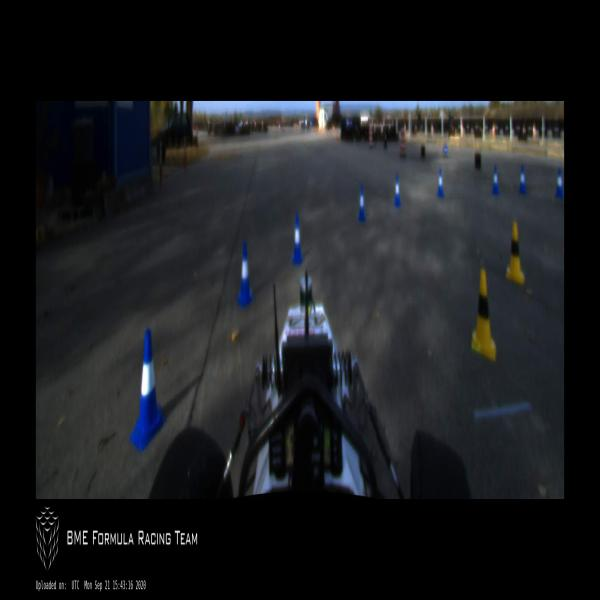blue_cone: (130, 327, 166, 450), (236, 244, 252, 304), (290, 215, 304, 264), (358, 185, 366, 222), (393, 175, 402, 206), (491, 166, 500, 195), (436, 167, 444, 196), (555, 168, 563, 197), (518, 166, 526, 193)
yellow_cone: (470, 270, 496, 358), (506, 222, 524, 283)
